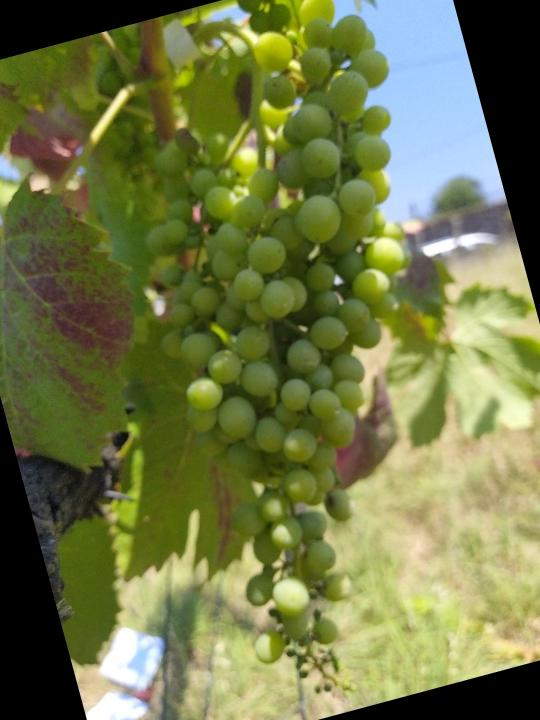grape: (83, 0, 540, 715)
